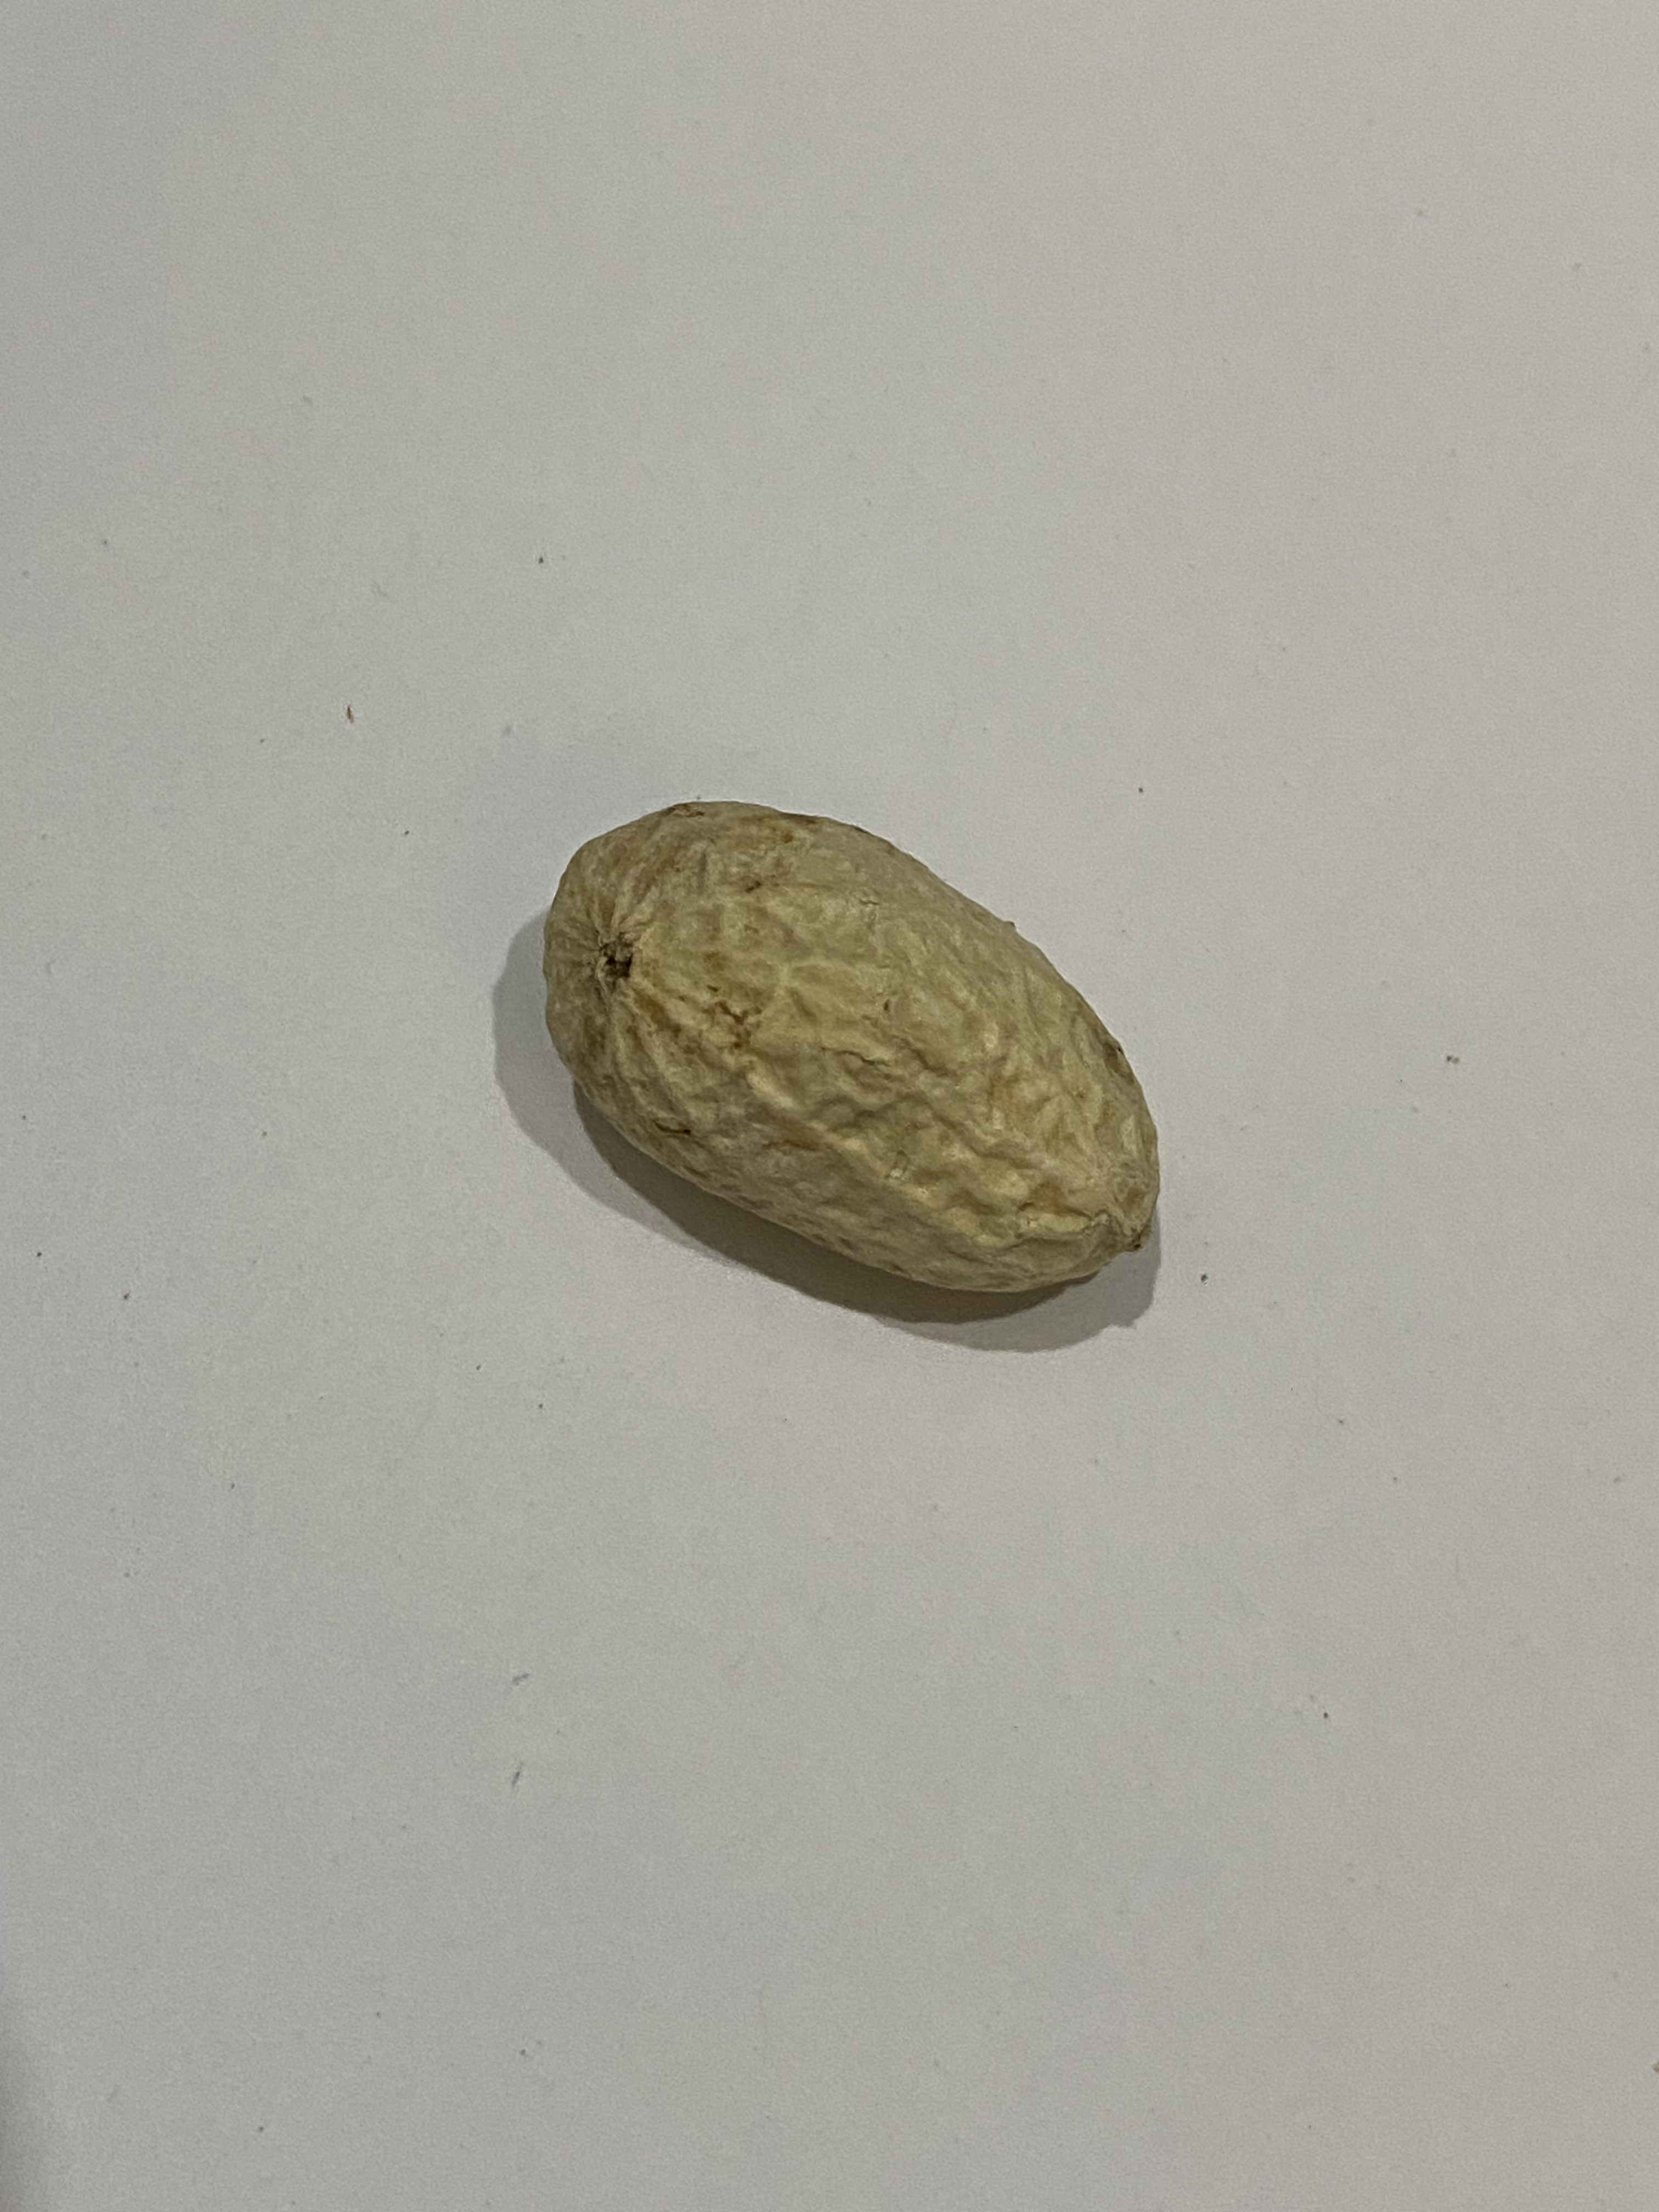kacang1: (505, 770, 1215, 1325)
